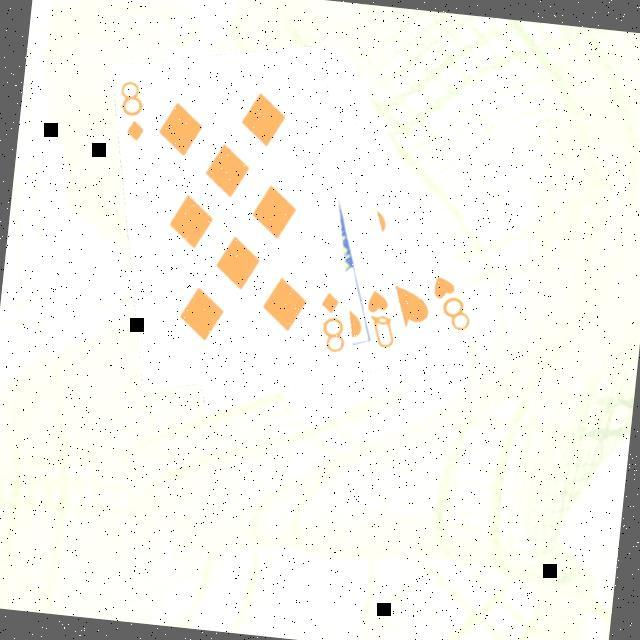8D: (311, 288, 352, 359), (111, 76, 152, 147)
8H: (424, 271, 478, 337)
QH: (358, 286, 402, 354)
